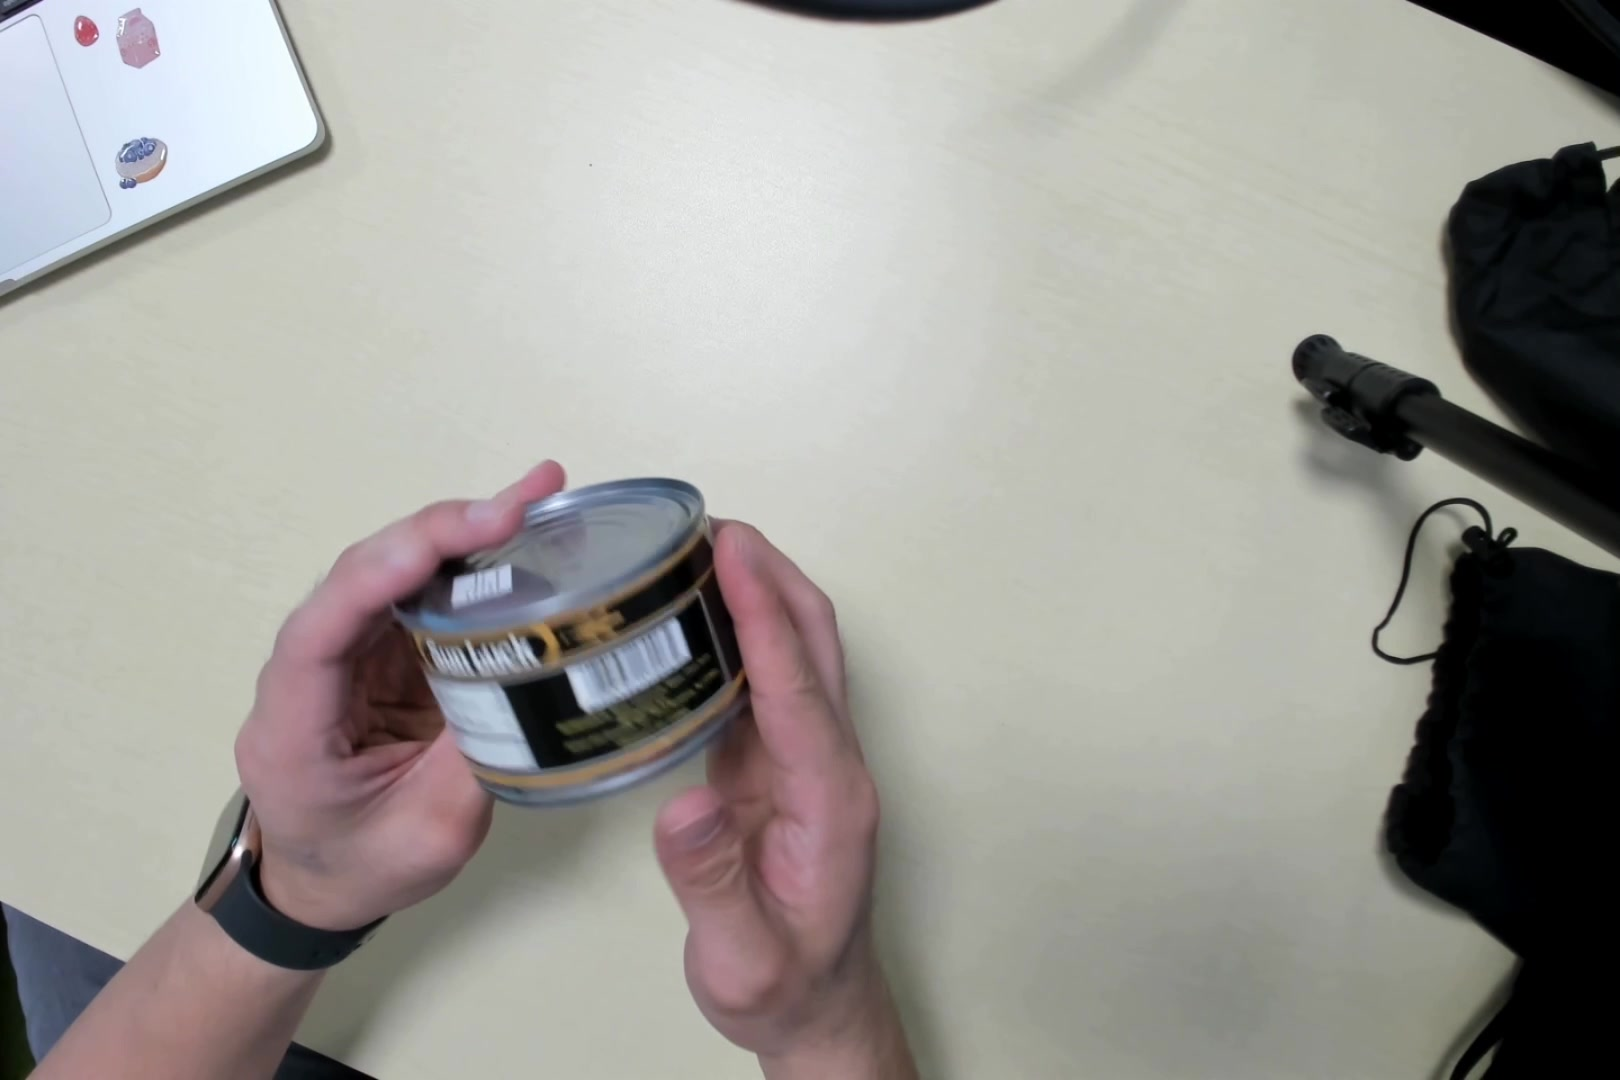CannedVegetarianFood_100-199g_Halal_NonHealthy: (403, 491, 749, 799)
